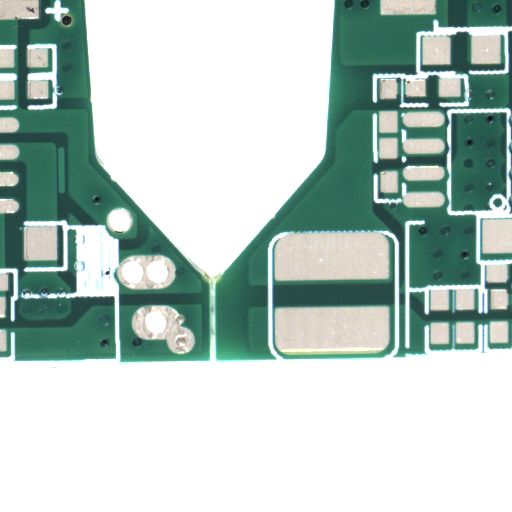Spurious_copper: (61, 169, 70, 218)
